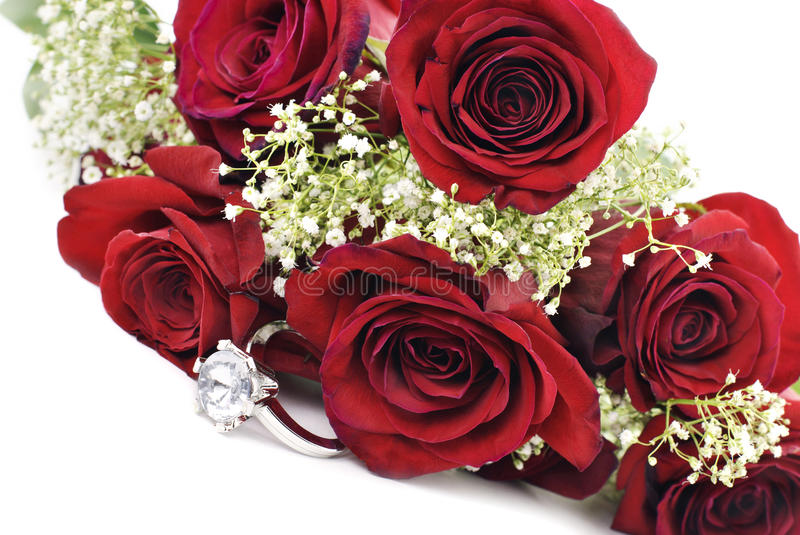RedRose: (286, 220, 603, 503), (383, 0, 663, 217), (50, 137, 273, 392), (570, 187, 800, 418), (174, 0, 425, 181)
